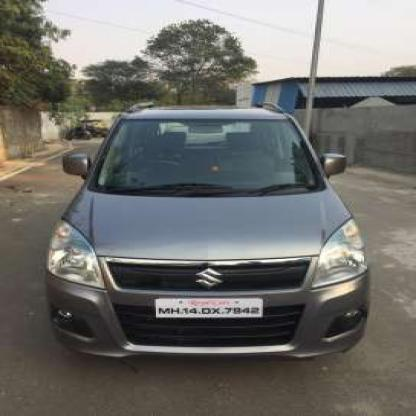license: (153, 296, 265, 318)
